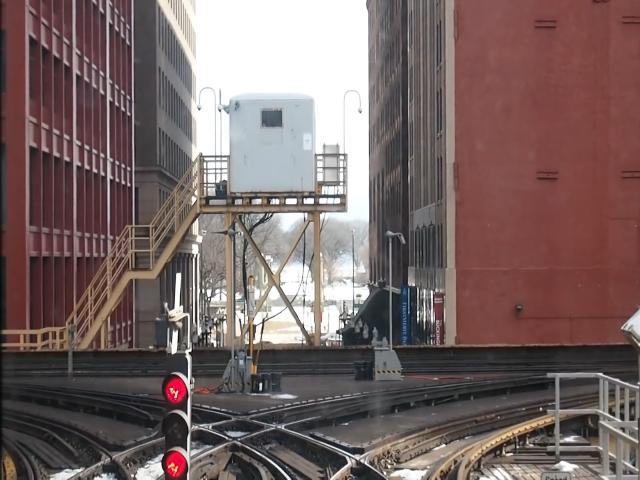signal light: (163, 351, 196, 480)
